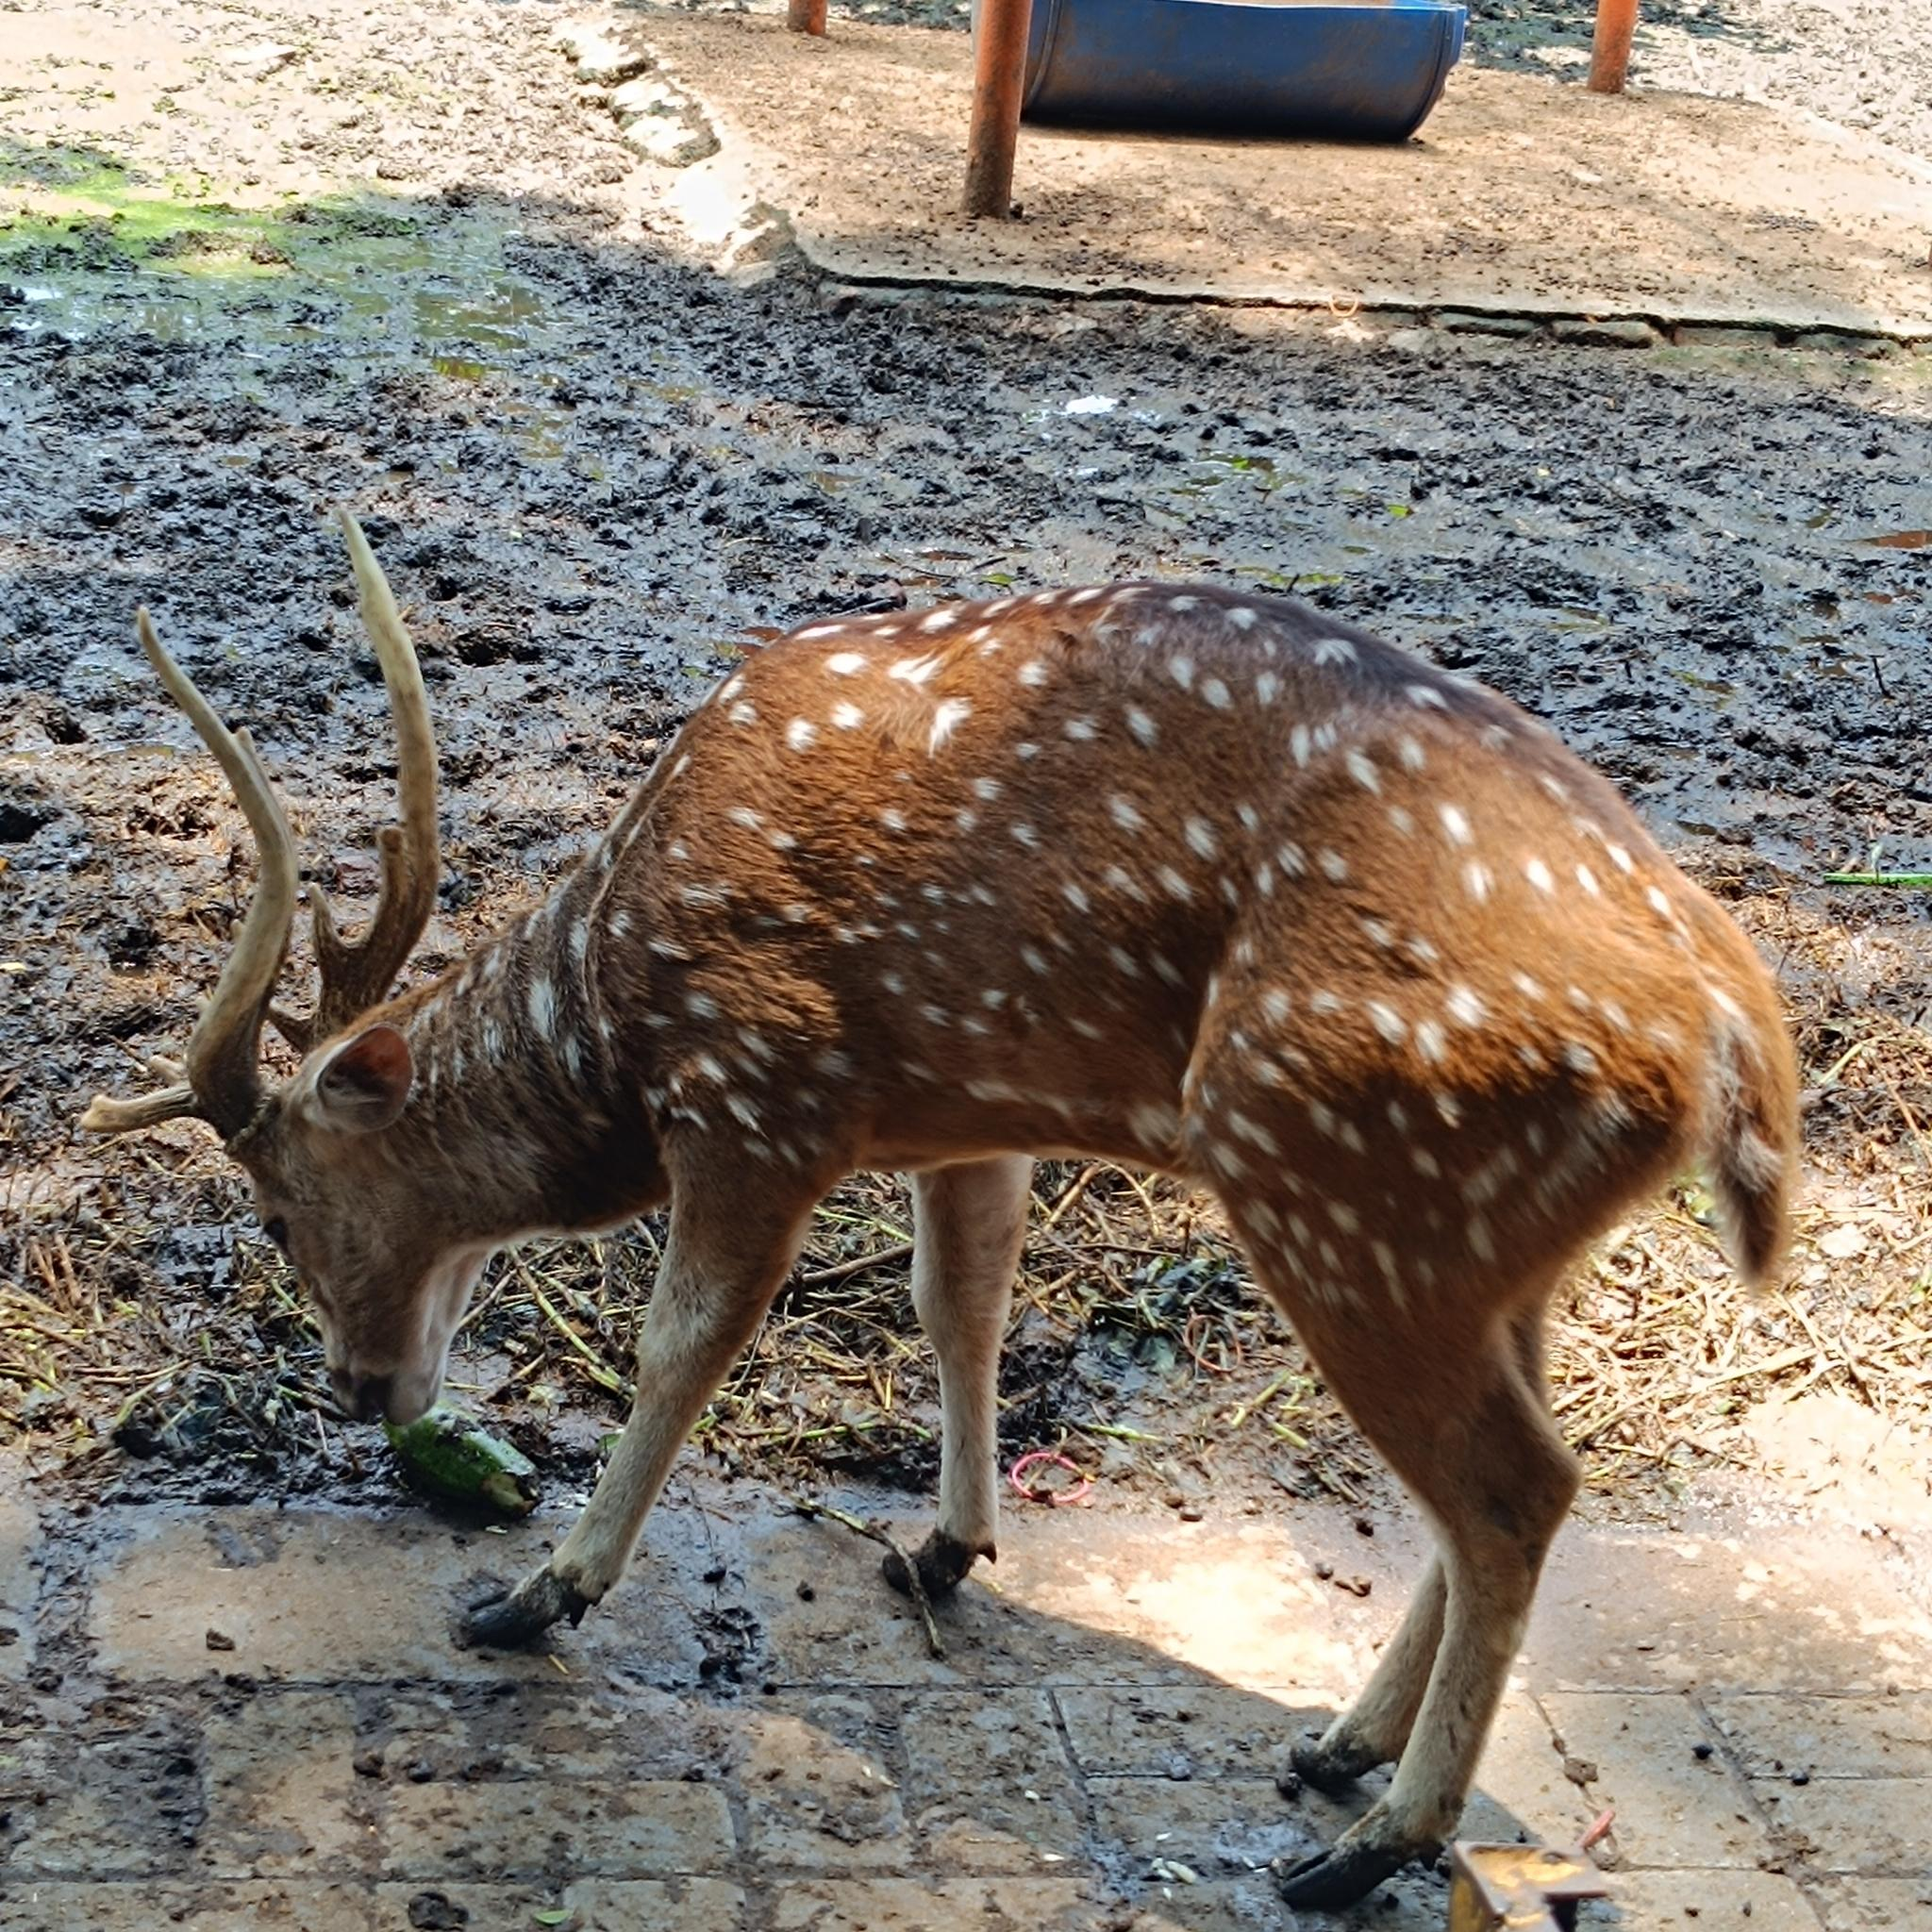Deer: (87, 520, 1798, 1907)
